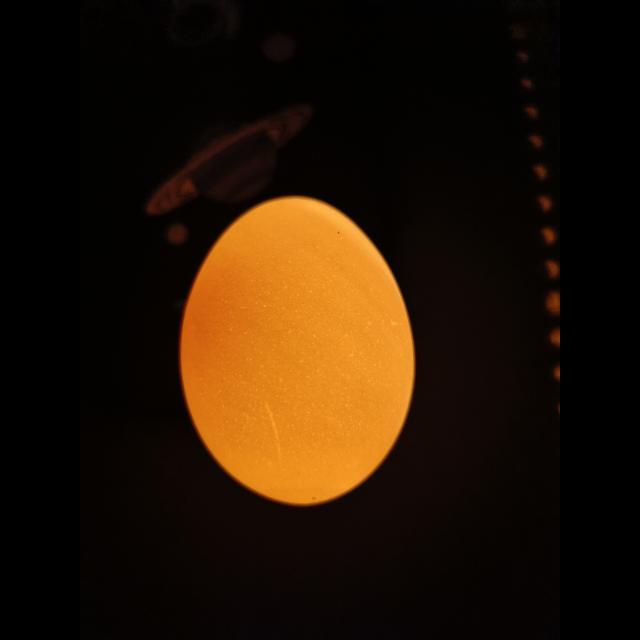AA - Premium: (180, 196, 414, 505)
